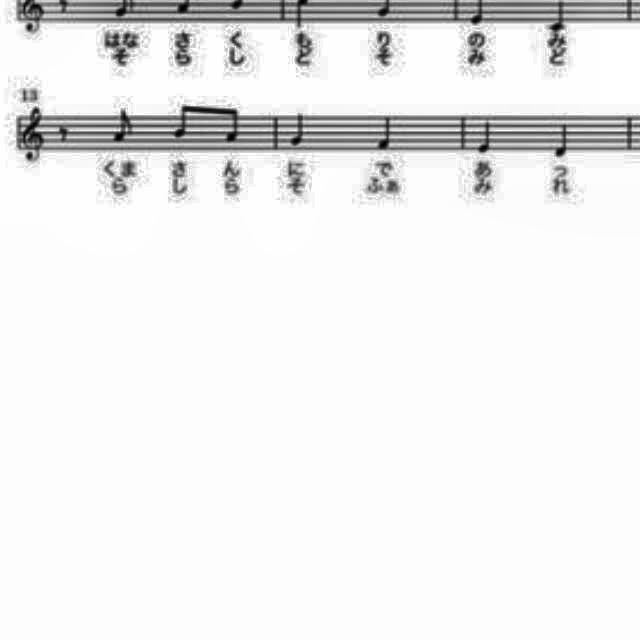Eighth-note: (107, 105, 137, 149), (170, 98, 194, 146), (222, 102, 246, 146)
Eighth-rest: (55, 118, 75, 146)
Quarter-note: (373, 110, 399, 154), (552, 116, 576, 162), (474, 114, 498, 158), (286, 108, 310, 152)
Treble-clef: (15, 106, 49, 170)
